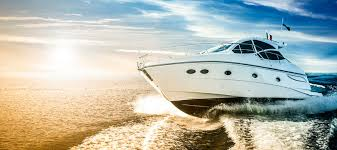boat: (137, 18, 326, 118)
